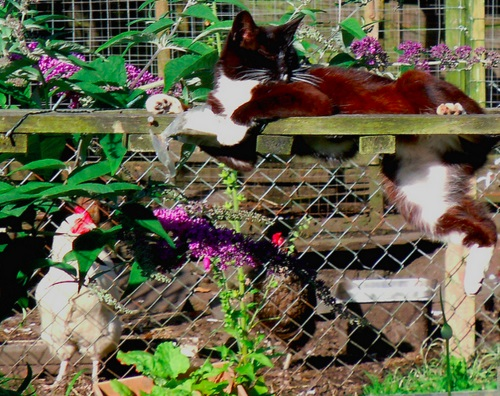cat: (171, 9, 500, 292)
